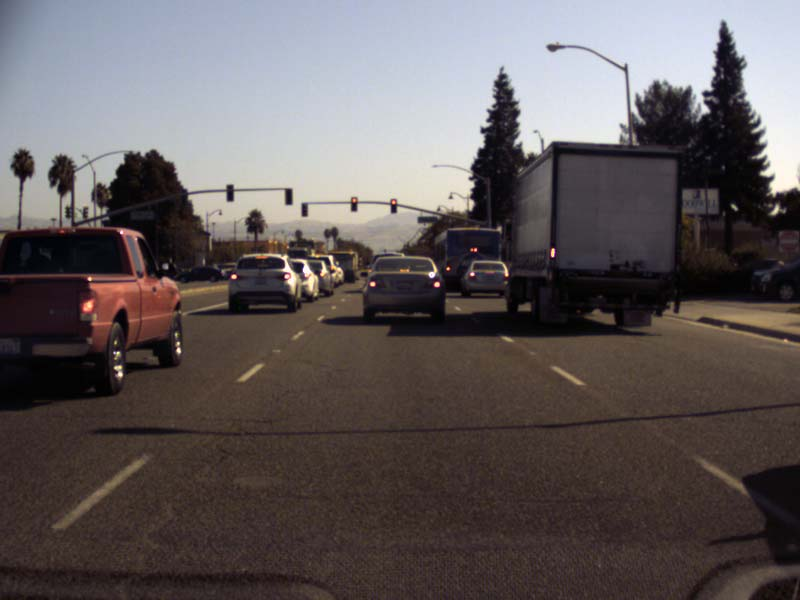Red: (351, 197, 357, 211), (390, 198, 396, 212)
